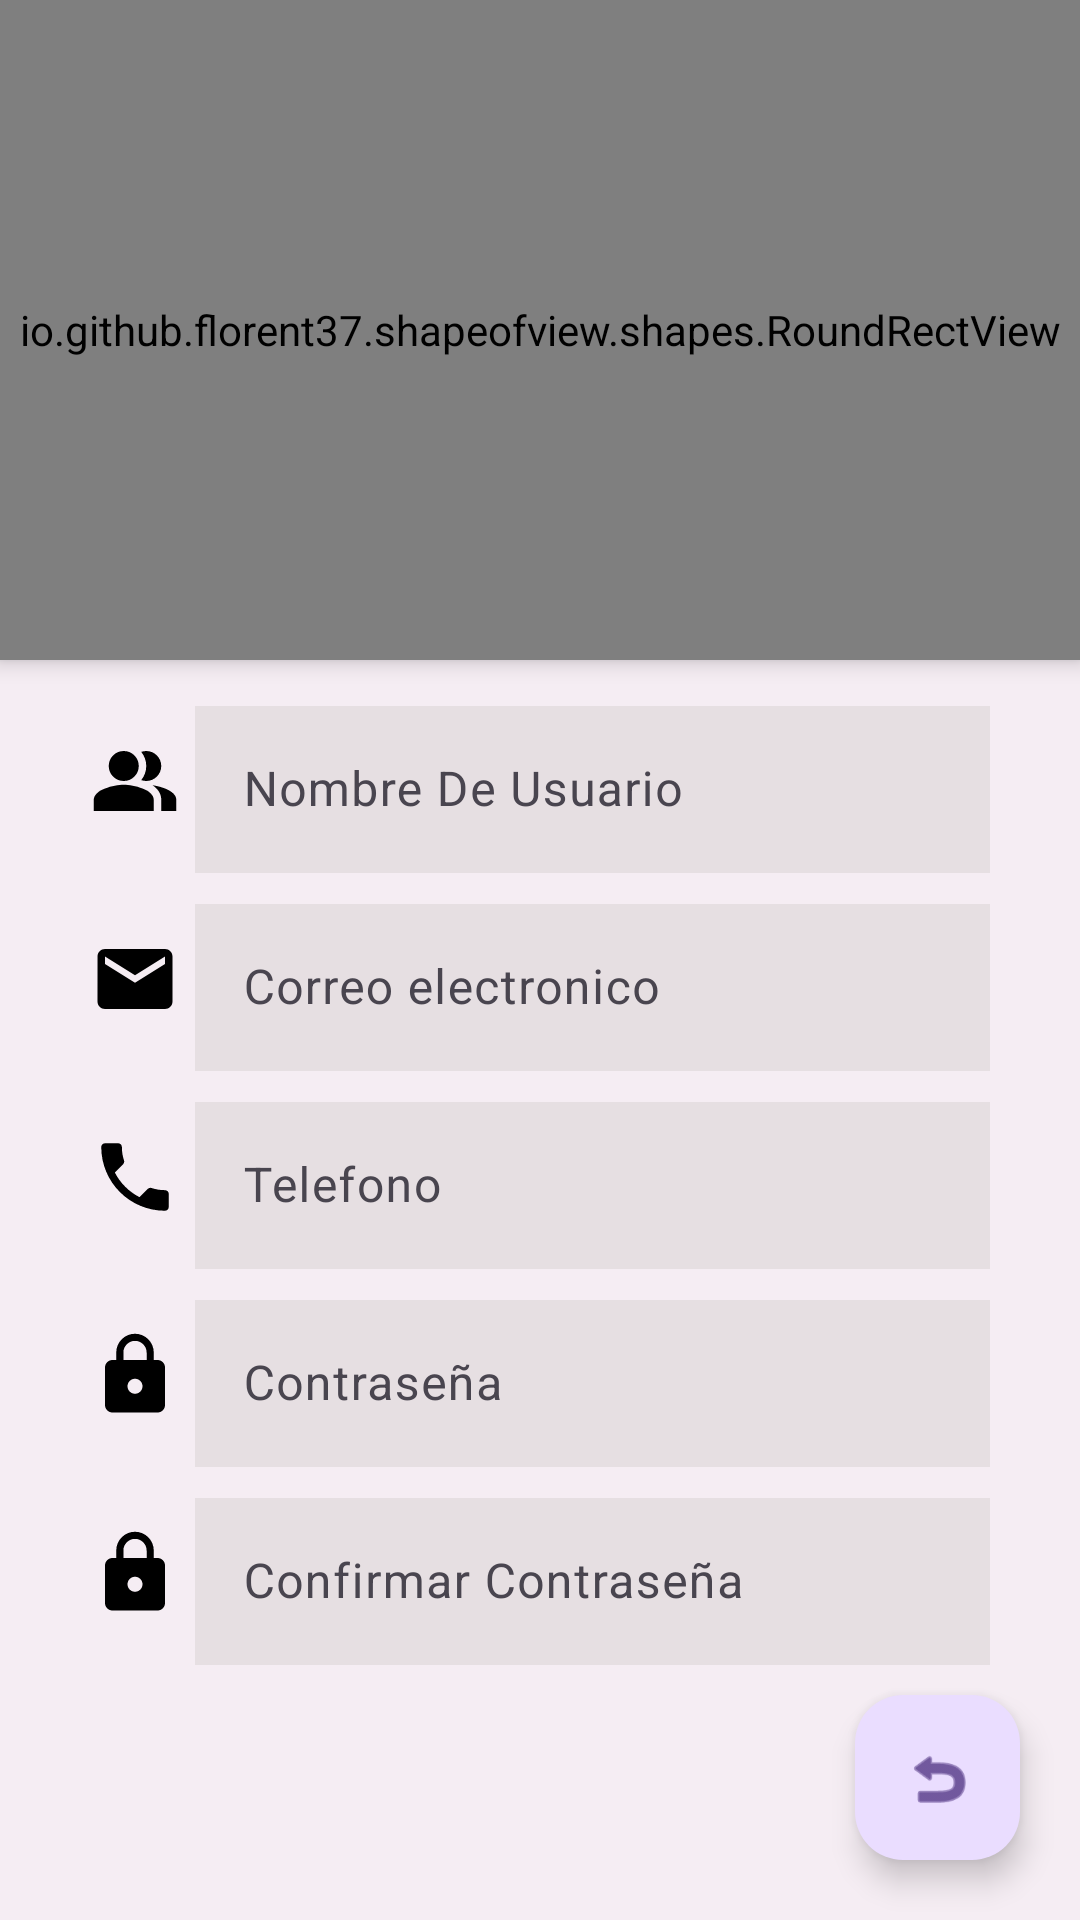

Screen size 1080x1920. Icon name, then its box in pixels as (x1=x1, y1=y1, x2=x2, y2=y2):
email: (x1=97, y1=949, x2=173, y2=1009)
lock: (x1=105, y1=1333, x2=165, y2=1413), (x1=105, y1=1531, x2=165, y2=1611)
people: (x1=93, y1=751, x2=177, y2=811)
phone: (x1=101, y1=1143, x2=169, y2=1211)
revert: (x1=855, y1=1695, x2=1020, y2=1860)
